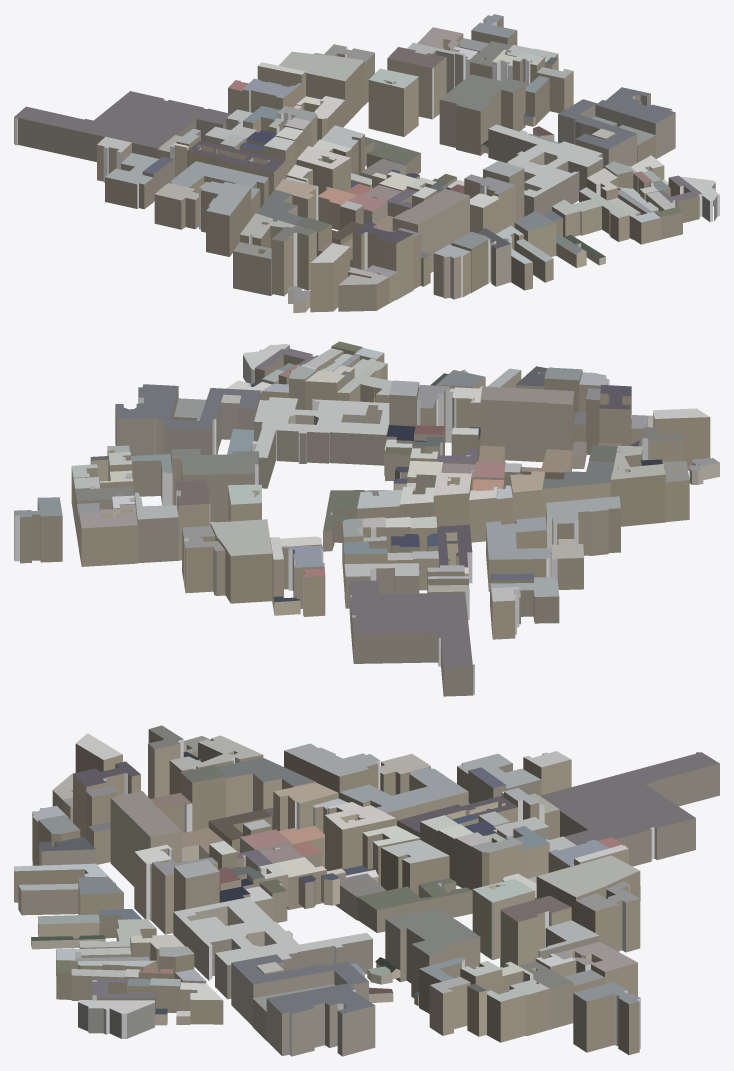
The picture shows the model from 3 angles, top to bottom: view 1: azimuth 30°, elevation 25°; view 2: azimuth 150°, elevation 25°; view 3: azimuth 270°, elevation 25°; orthographic projection. The views are drawn at different scales.
Parts seen in each view (by area): view 1: tuile; view 2: tuile; view 3: tuile.
Boxes of the visible parts, bbox=[...] form: tuile: bbox=[14, 14, 719, 312]; tuile: bbox=[14, 341, 719, 696]; tuile: bbox=[14, 725, 719, 1056].
Bounding box in the file's own units: 284 × 39.47 × 302.
